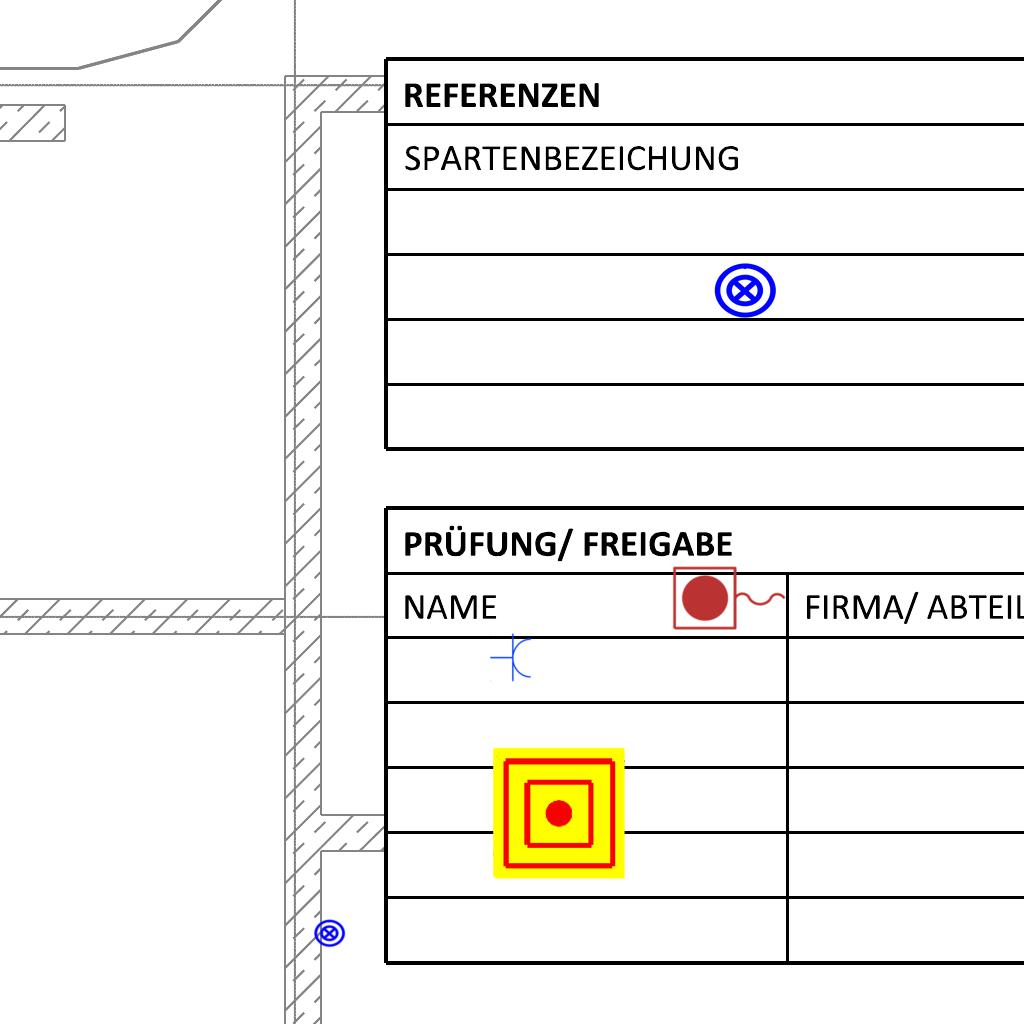NAM-Nichtautomatischer_Melder: (493, 747, 625, 879)
Schukosteckdose_einfach: (490, 633, 533, 683)
Taster_beleuchtet: (712, 258, 778, 324), (313, 917, 346, 950)
Zugtaster: (669, 563, 791, 635)
